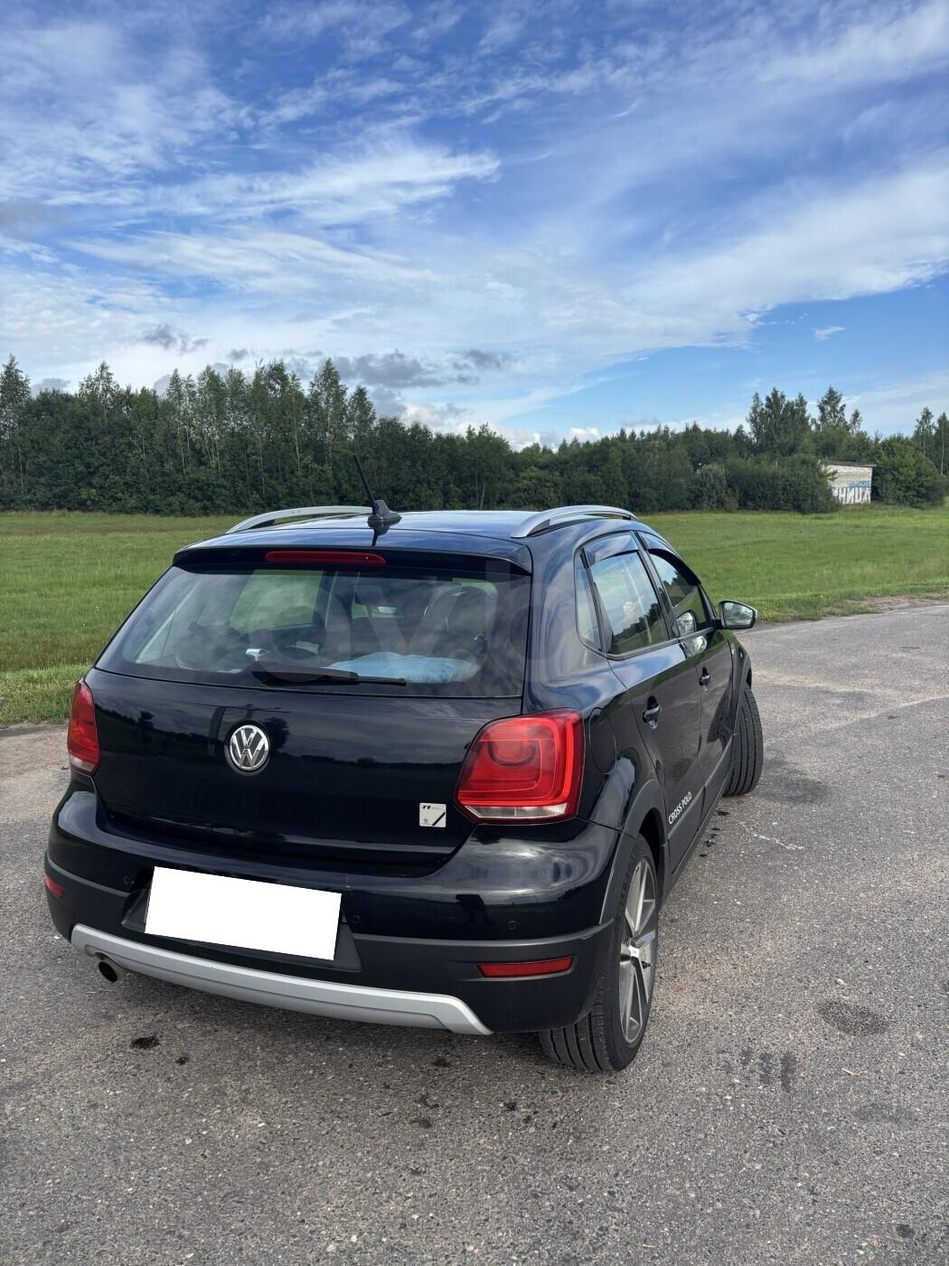Polo_2009-2015: (20, 445, 750, 1098)
